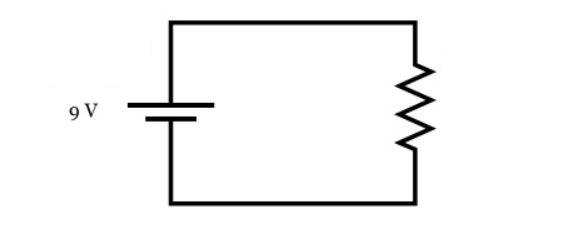resistor: (379, 39, 444, 168)
